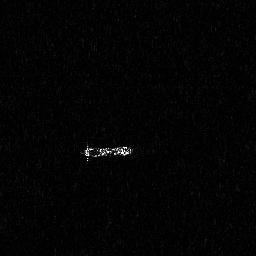ship: (77, 142, 135, 164)
